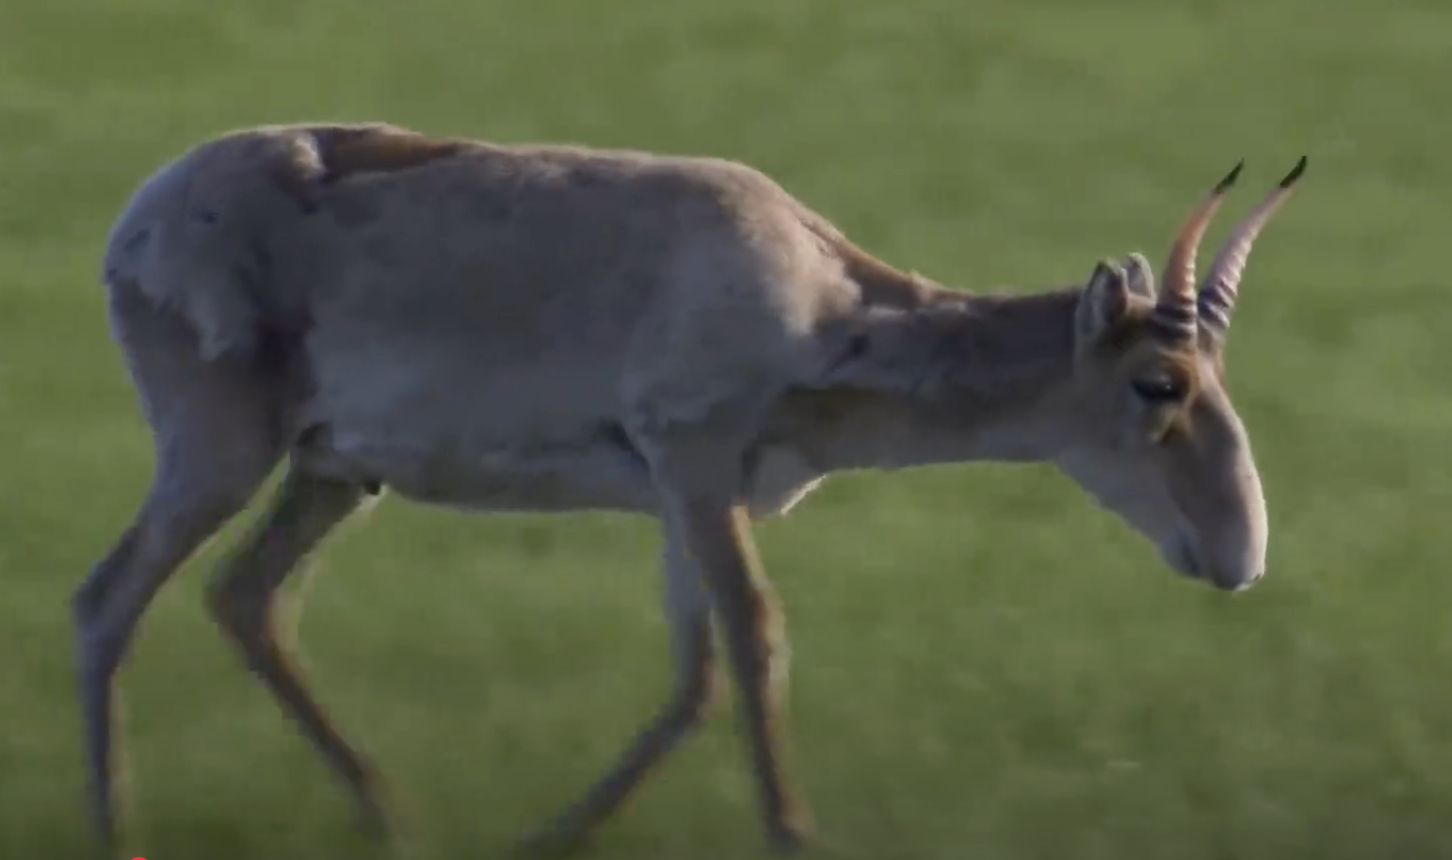saiga: (65, 93, 1325, 829)
